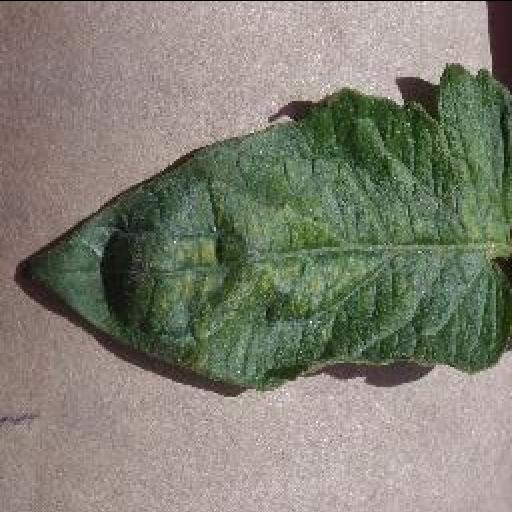disease_tomato: (26, 66, 512, 392)
